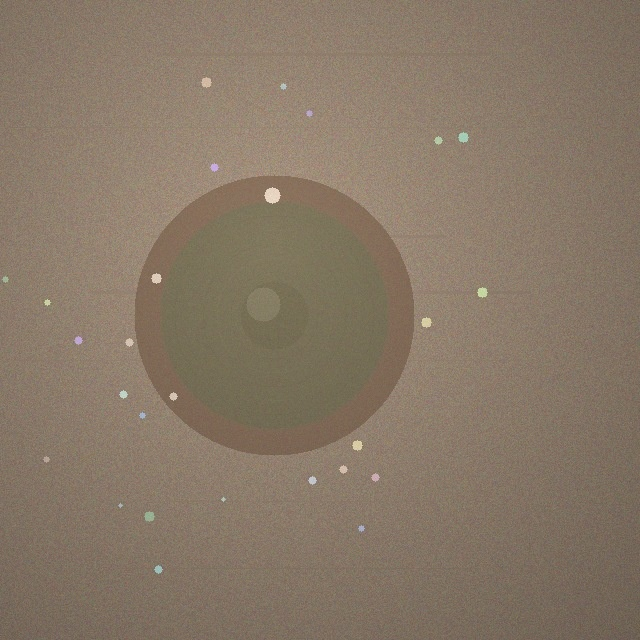overburn: (134, 175, 414, 455)
